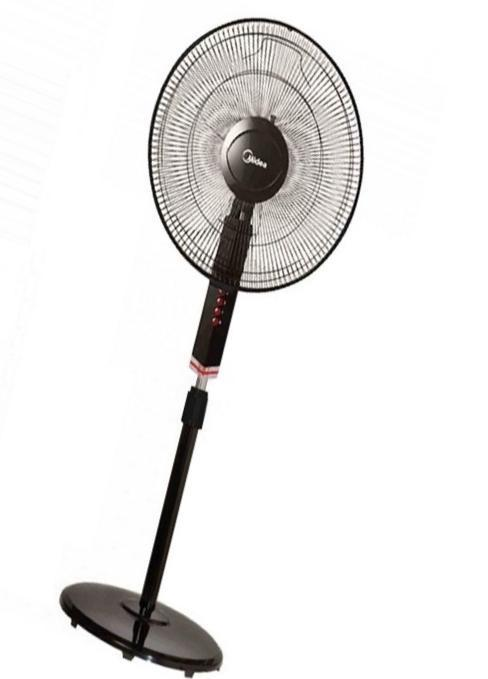fan: (71, 15, 360, 679)
